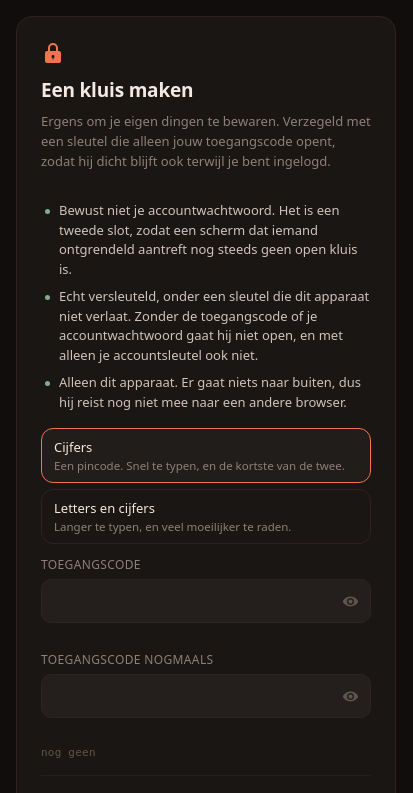
Test case: the same screen in Dutch › renders the copy, the rules and the count in Dutch
Expected: the heading "Een kluis maken" is shown, [41,77,193,103]
Type "318842" into the password field labelled "Toegangscode" at {"x": 206, "y": 601}, box [41,579,371,623]
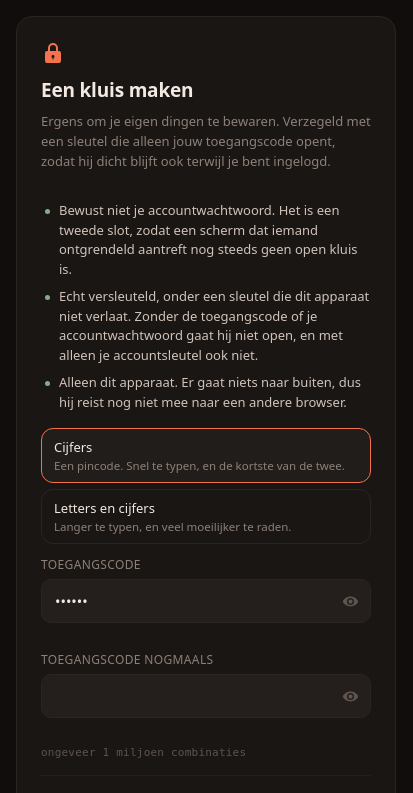
Expected: the text "ongeveer 1 miljoen combinaties" is shown, [41,746,246,759]
